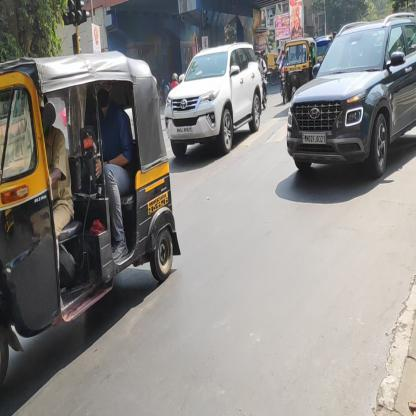license: (302, 132, 326, 144)
